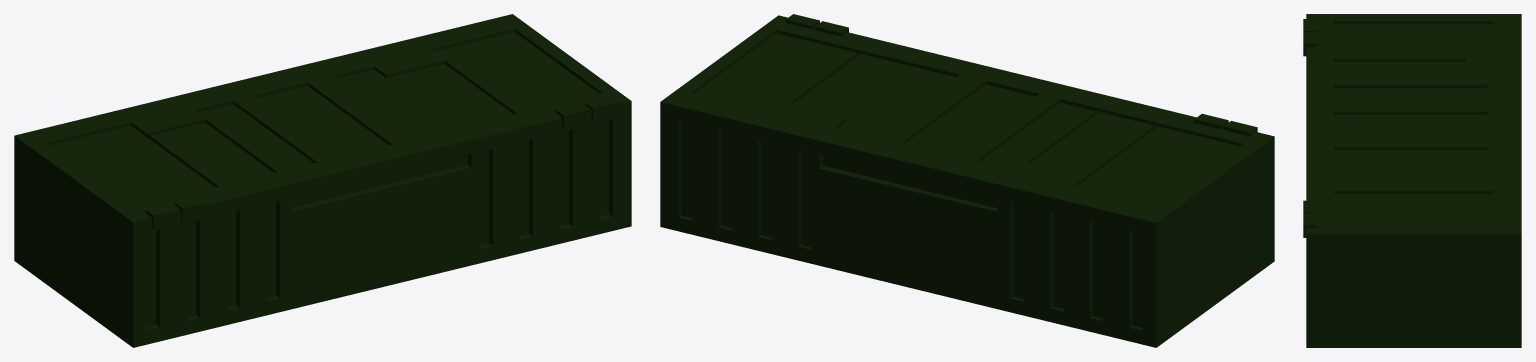
The model's file is GunBoxMilitaryfbx.fbx.
3 renders of one model, left to right at view 1: azimuth 30°, elevation 25°; view 2: azimuth 150°, elevation 25°; view 3: azimuth 270°, elevation 25°, orthographic. The views are drawn at different scales.
Visible parts, largest first — view 1: GunBox; view 2: GunBox; view 3: GunBox.
Boxes of the visible parts, x1,y1,x2,y2 form: GunBox: [14, 14, 631, 347]; GunBox: [660, 14, 1274, 347]; GunBox: [1303, 14, 1521, 347].
Size of the model in its own units: 748 by 185 by 313.
